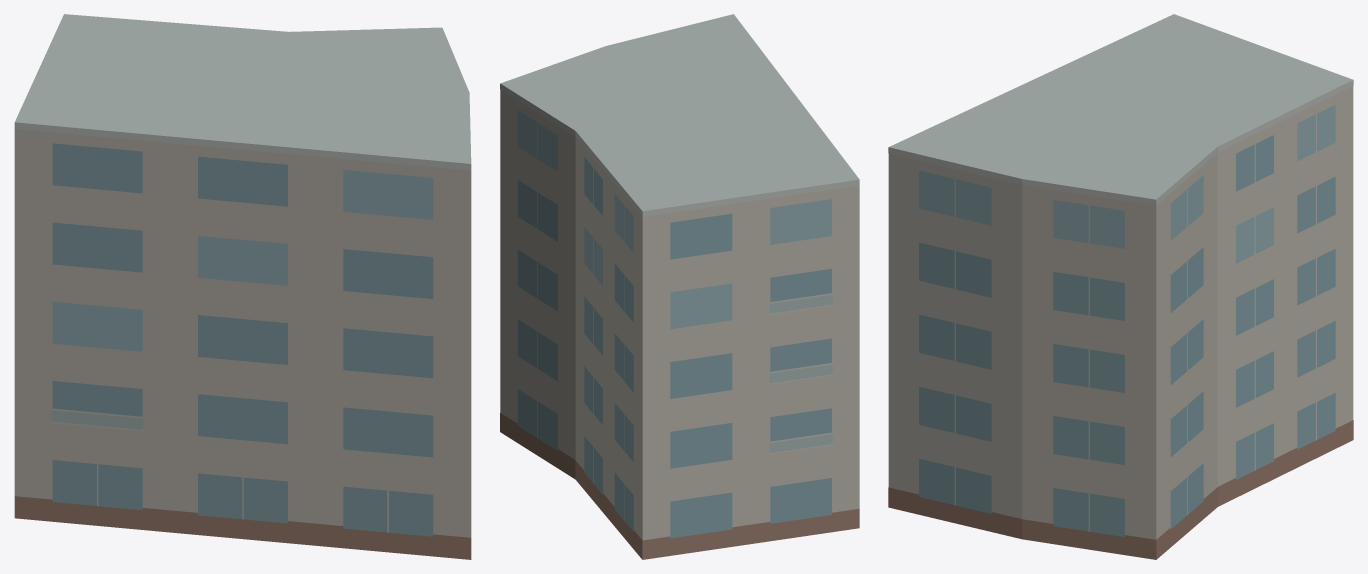
The model's file is survey-upis-32526229.glb.
3 views of the same model, side by side, from view 1: azimuth 30°, elevation 25°; view 2: azimuth 150°, elevation 25°; view 3: azimuth 270°, elevation 25° (orthographic). The views are drawn at different scales.
Visible parts, largest first — view 1: survey-upis-32526229.tmp; view 2: survey-upis-32526229.tmp; view 3: survey-upis-32526229.tmp.
Boxes of the visible parts, x1,y1,x2,y2 form: survey-upis-32526229.tmp: (14,14,471,559); survey-upis-32526229.tmp: (500,14,859,559); survey-upis-32526229.tmp: (888,14,1353,559).
Size of the model in its own units: 15.92 by 14.4 by 16.85.
